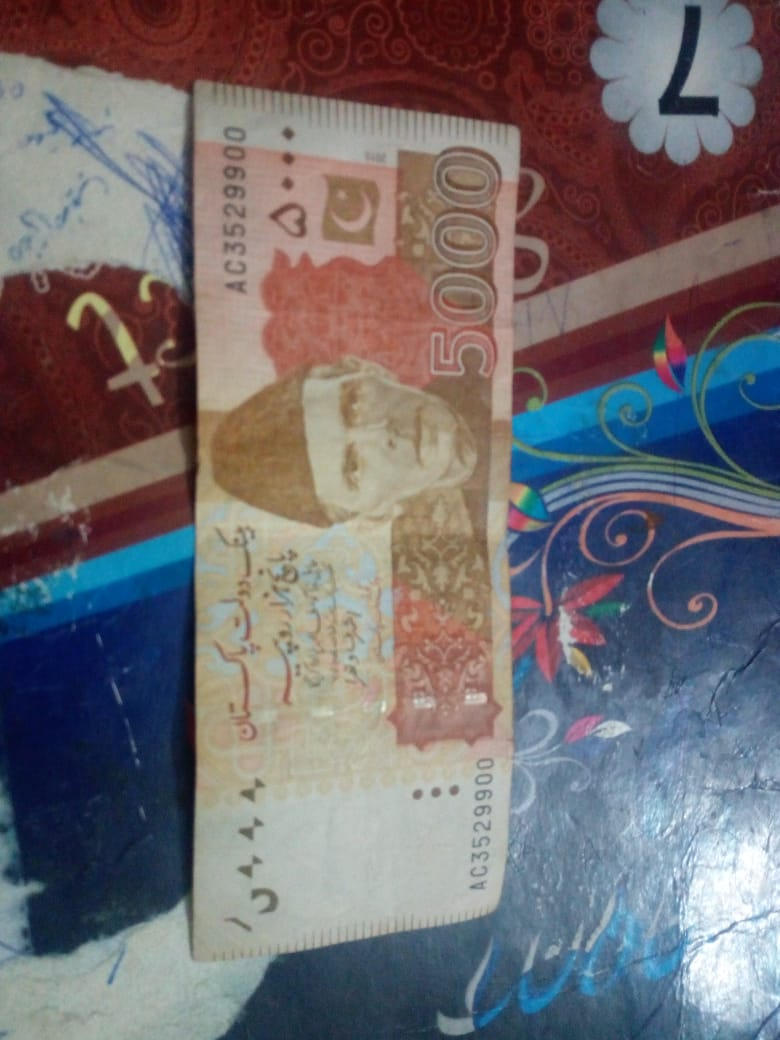5000 rupee: (184, 66, 525, 978)
